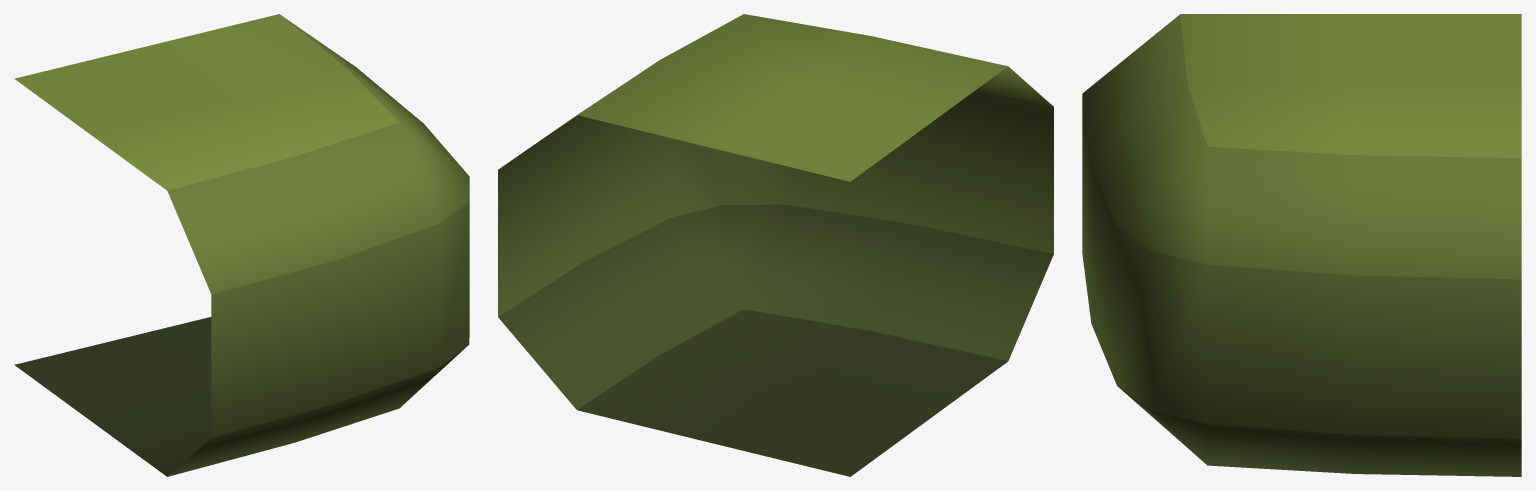
The model's file is grass_top_1x1_corner_front_right.fbx.
3 renders of one model, left to right at view 1: azimuth 30°, elevation 25°; view 2: azimuth 150°, elevation 25°; view 3: azimuth 270°, elevation 25°, orthographic. The views are drawn at different scales.
Visible parts, largest first — view 1: grass_top_1x1_corner_front_right; view 2: grass_top_1x1_corner_front_right; view 3: grass_top_1x1_corner_front_right.
Part boxes in pixels (x1,y1,x2,y2): grass_top_1x1_corner_front_right: (14, 14, 469, 476); grass_top_1x1_corner_front_right: (498, 14, 1053, 476); grass_top_1x1_corner_front_right: (1082, 14, 1521, 476).
Size of the model in its own units: 68.72 by 55 by 68.72.
